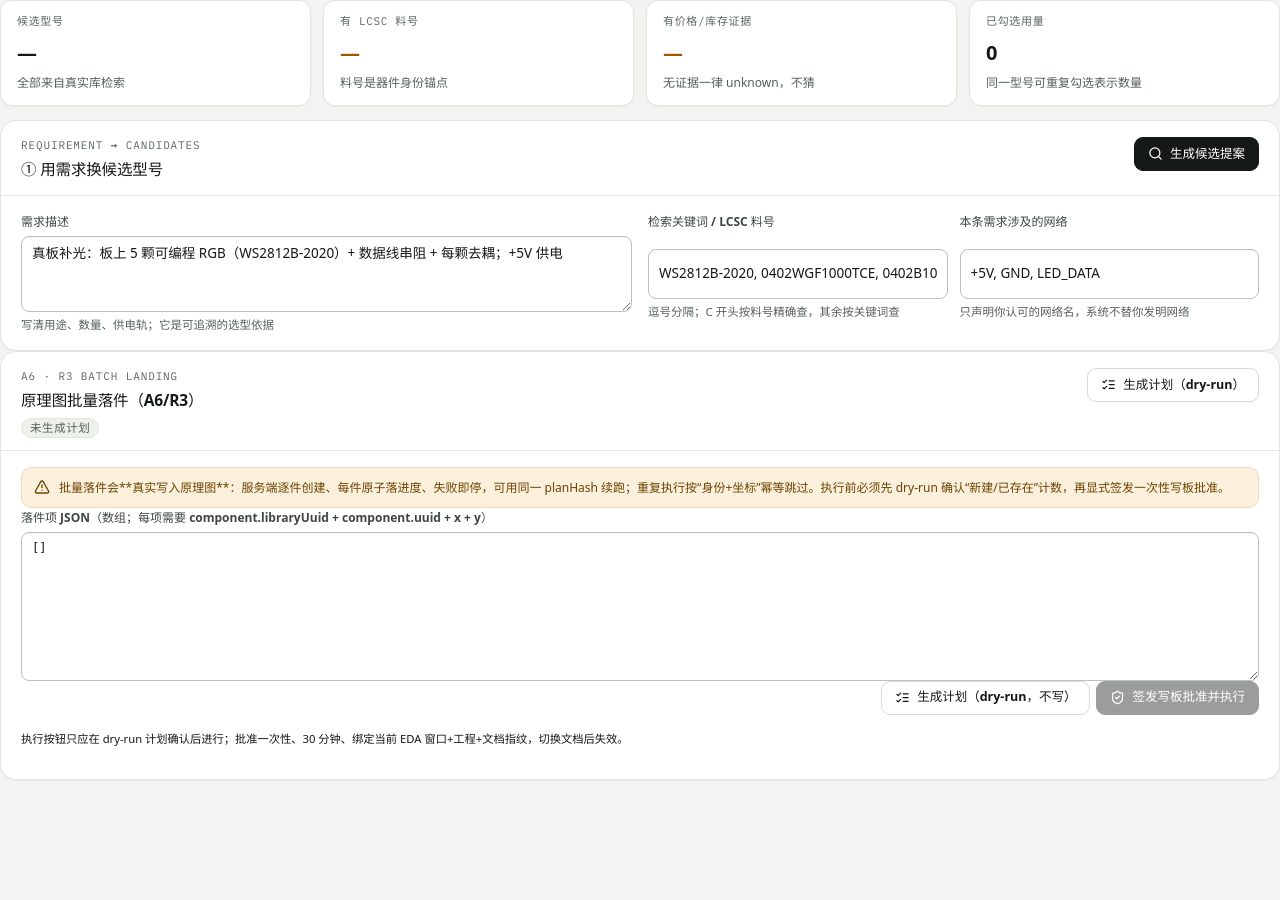
it: F5 页面级交互（真实点击） › PartProposalPage D8：点「生成计划（dry-run）」走计划长任务并渲染 planHash（不写板）
Click the button "生成计划（dry-run，不写）". click: (986,698)
box: x1=881 y1=680 x2=1090 y2=714
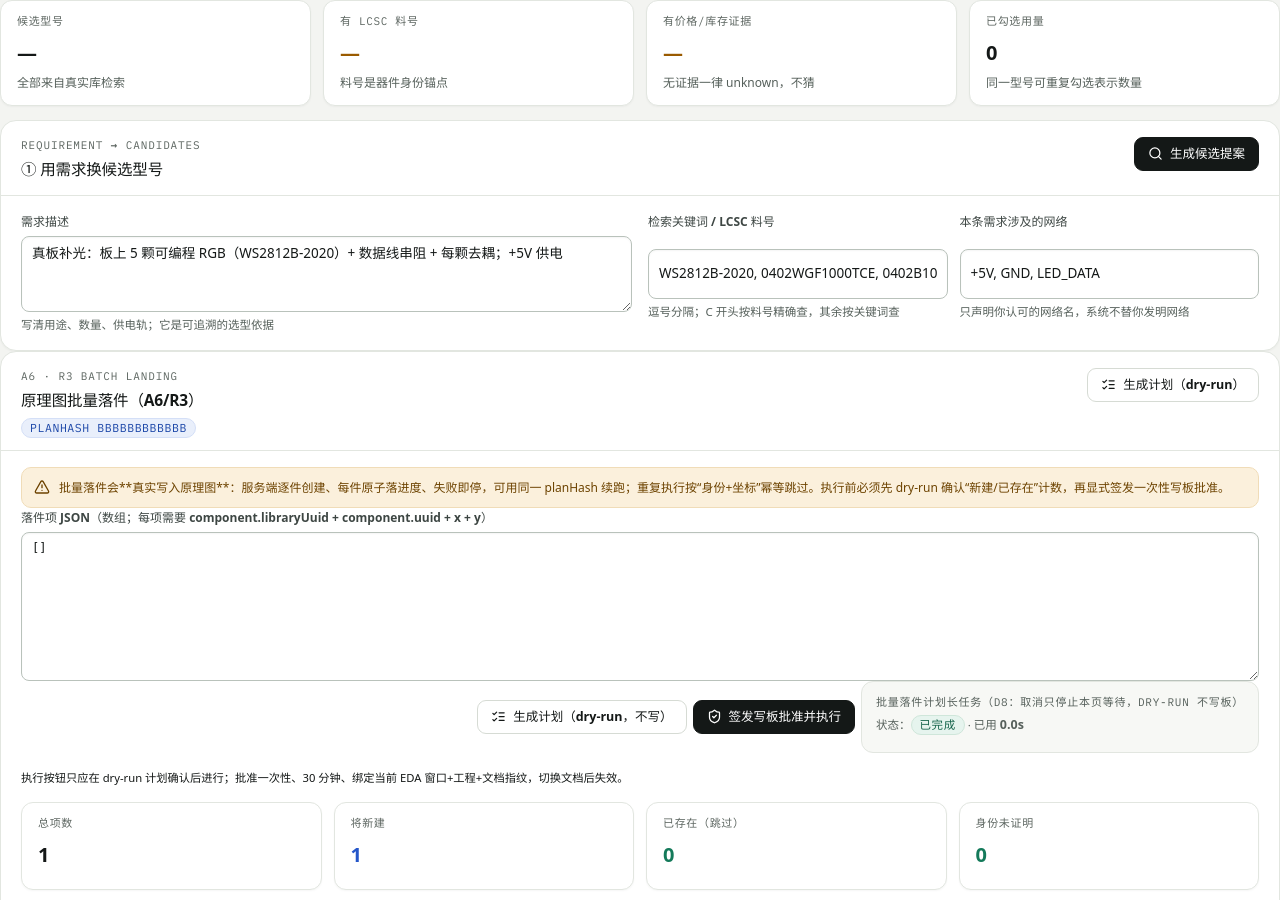
Check: the text "总项数" is shown, box x1=38 y1=816 x2=73 y2=830
Check: the text "已存在（跳过）" is shown, box x1=663 y1=816 x2=745 y2=830
Check: the text "批量落件计划长任务" is shown, box x1=876 y1=694 x2=1244 y2=708
